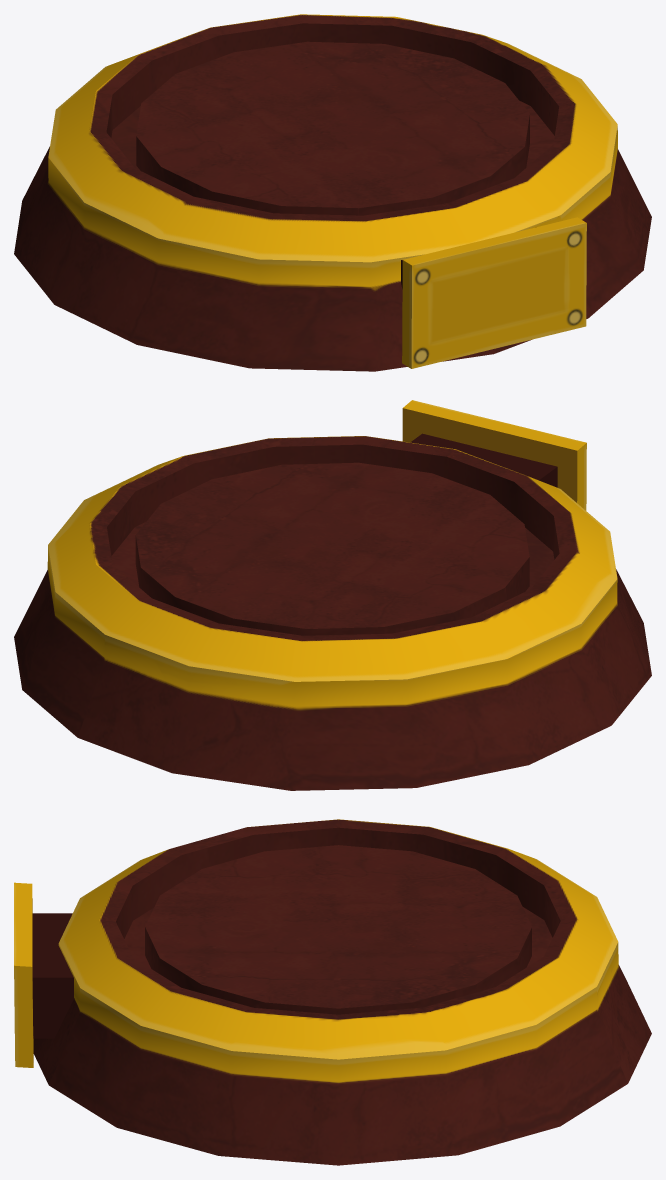
The model's file is msh_character_pedestal.fbx.
3 renders of one model, top to bottom at view 1: azimuth 30°, elevation 25°; view 2: azimuth 150°, elevation 25°; view 3: azimuth 270°, elevation 25°, orthographic. The views are drawn at different scales.
Parts seen in each view (by area): view 1: polySurface1; view 2: polySurface1; view 3: polySurface1.
Part boxes in pixels (left/top/right/bottom): polySurface1: left=14, top=14, right=651, bottom=371; polySurface1: left=14, top=400, right=651, bottom=790; polySurface1: left=14, top=819, right=651, bottom=1165.
Size of the model in its own units: 11.71 by 2.41 by 11.92.
